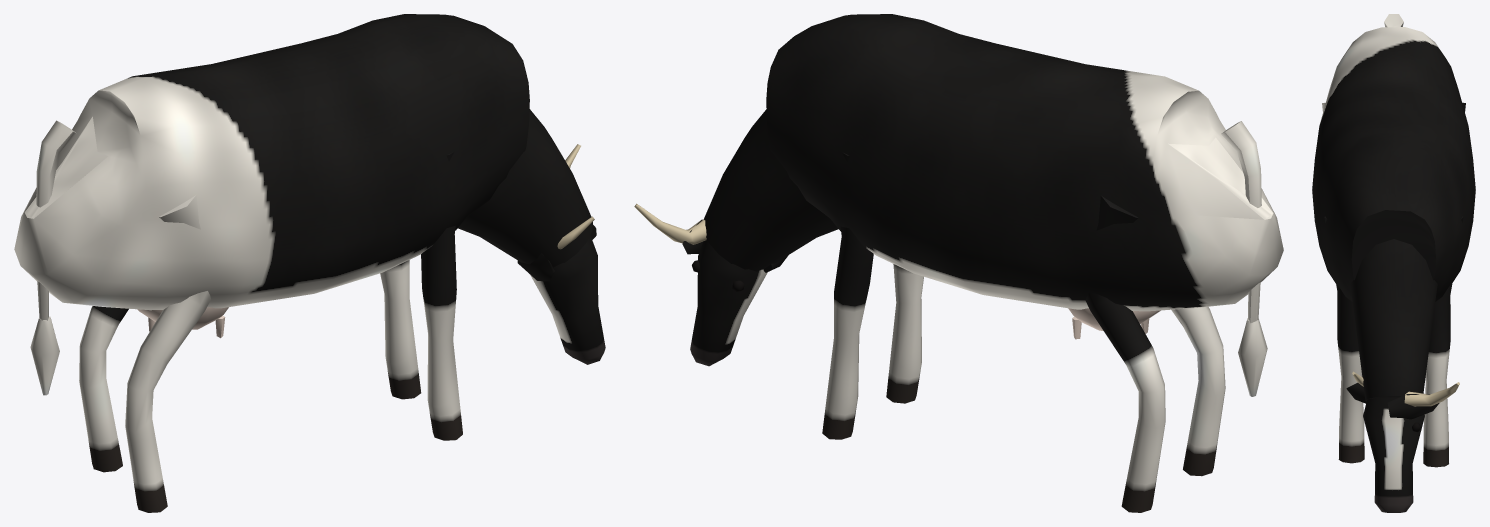
Rendered from tpl_life_herd_1850_cattle_fh_graze_h.glb.
3 views of the same model, side by side, from view 1: azimuth 30°, elevation 25°; view 2: azimuth 150°, elevation 25°; view 3: azimuth 270°, elevation 25° (orthographic). The views are drawn at different scales.
Parts seen in each view (by area): view 1: tpl_life_herd_1850_cattle_fh_graze_h; view 2: tpl_life_herd_1850_cattle_fh_graze_h; view 3: tpl_life_herd_1850_cattle_fh_graze_h.
Boxes of the visible parts, x1,y1,x2,y2 form: tpl_life_herd_1850_cattle_fh_graze_h: [14, 14, 605, 512]; tpl_life_herd_1850_cattle_fh_graze_h: [634, 14, 1283, 512]; tpl_life_herd_1850_cattle_fh_graze_h: [1312, 14, 1475, 512].
Size of the model in its own units: 2.21 by 1.41 by 0.6588.
3 materials, 1 textured.
